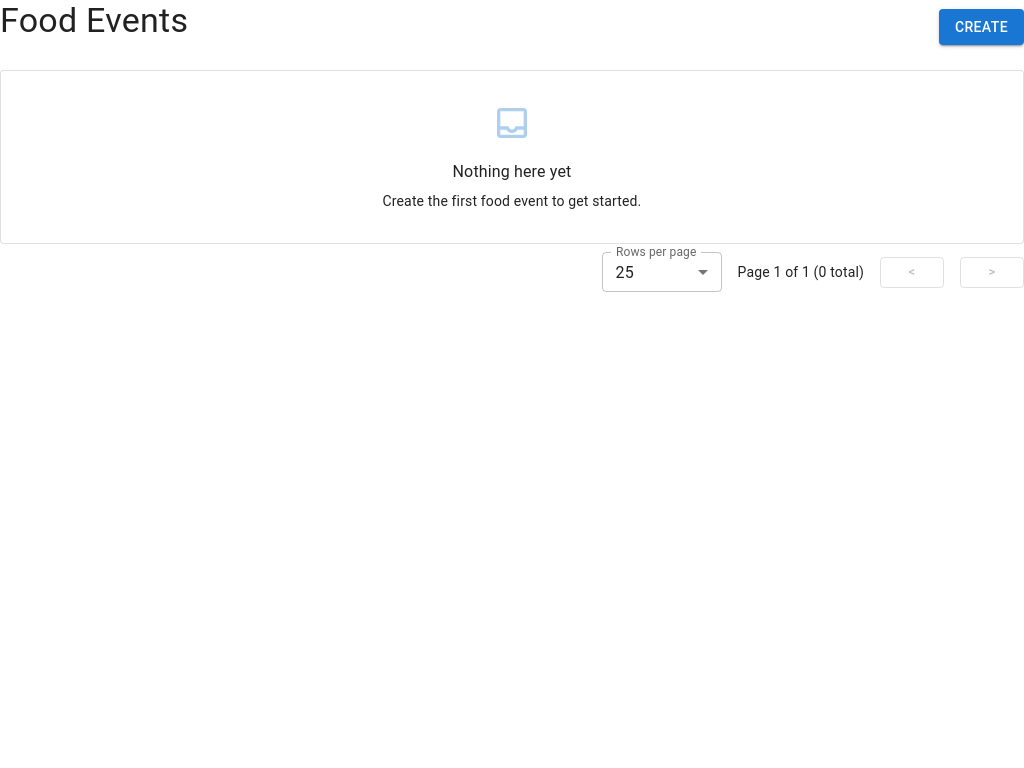
Test: EventsPage › keeps Save disabled until name and date are filled
Expected: the heading "Nothing here yet" is shown, [452,162,571,181]
Click the button "Create". click: (981, 27)
box: [939,9,1023,45]
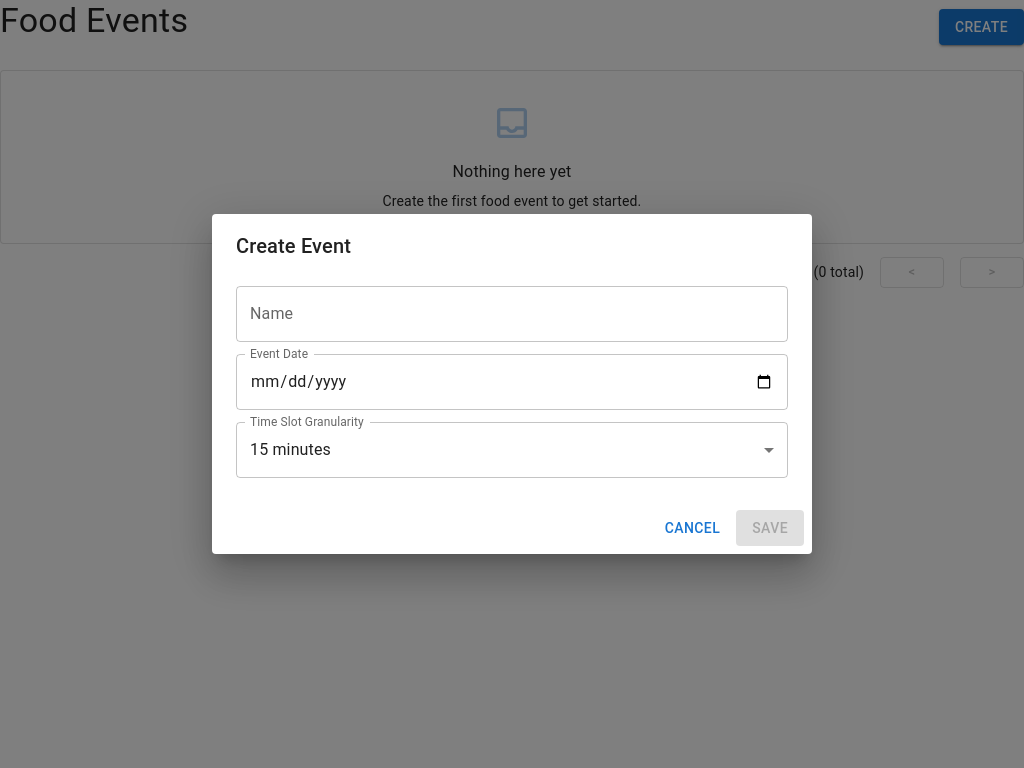
Now the button "Save" is disabled, box [736,510,804,546]
Type "X" into the field labelled "Name". click: (512, 314)
box: [236,286,788,342]
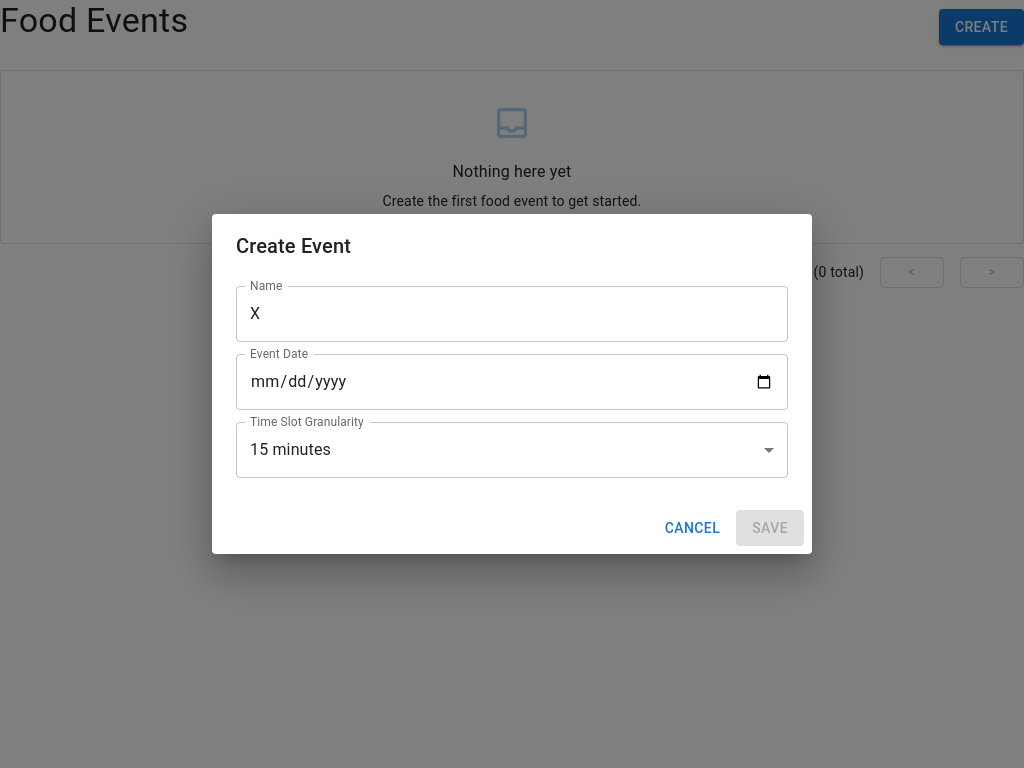
Now the button "Save" is disabled, box [736,510,804,546]
Type "2026-12-24" into the date field labelled "Event Date". click: (512, 382)
box: [236,354,788,410]
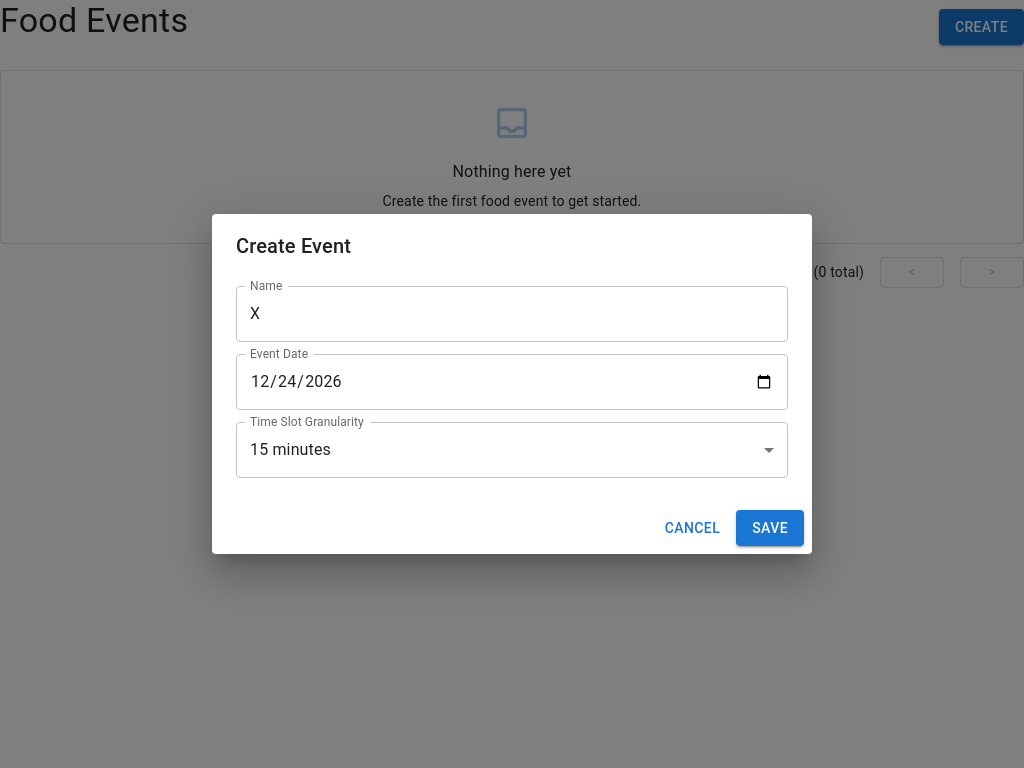
Now the button "Save" is enabled, box [736,510,804,546]
